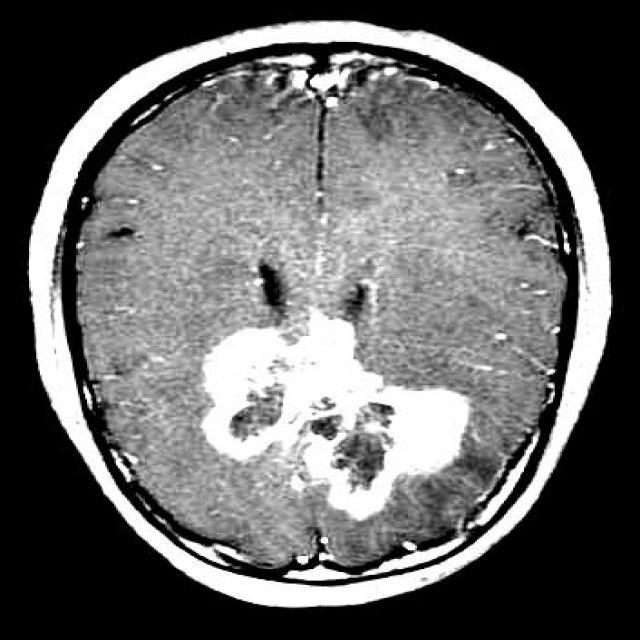tumor: (201, 265, 470, 523)
